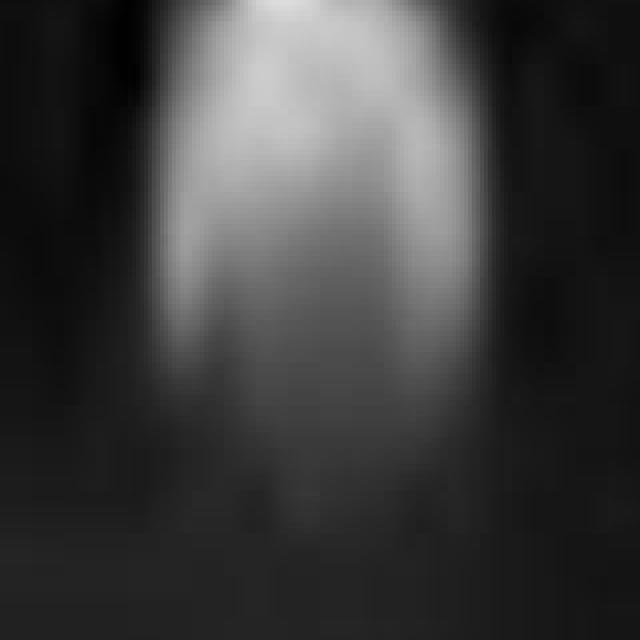person: (137, 1, 485, 513)
